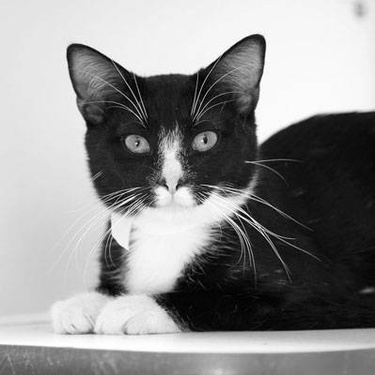cat: (48, 33, 373, 336)
